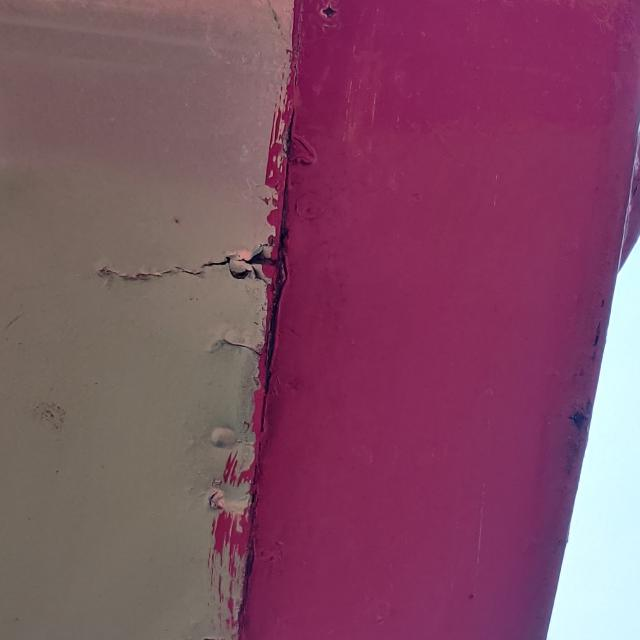crack: (85, 229, 292, 306), (200, 321, 275, 367)
